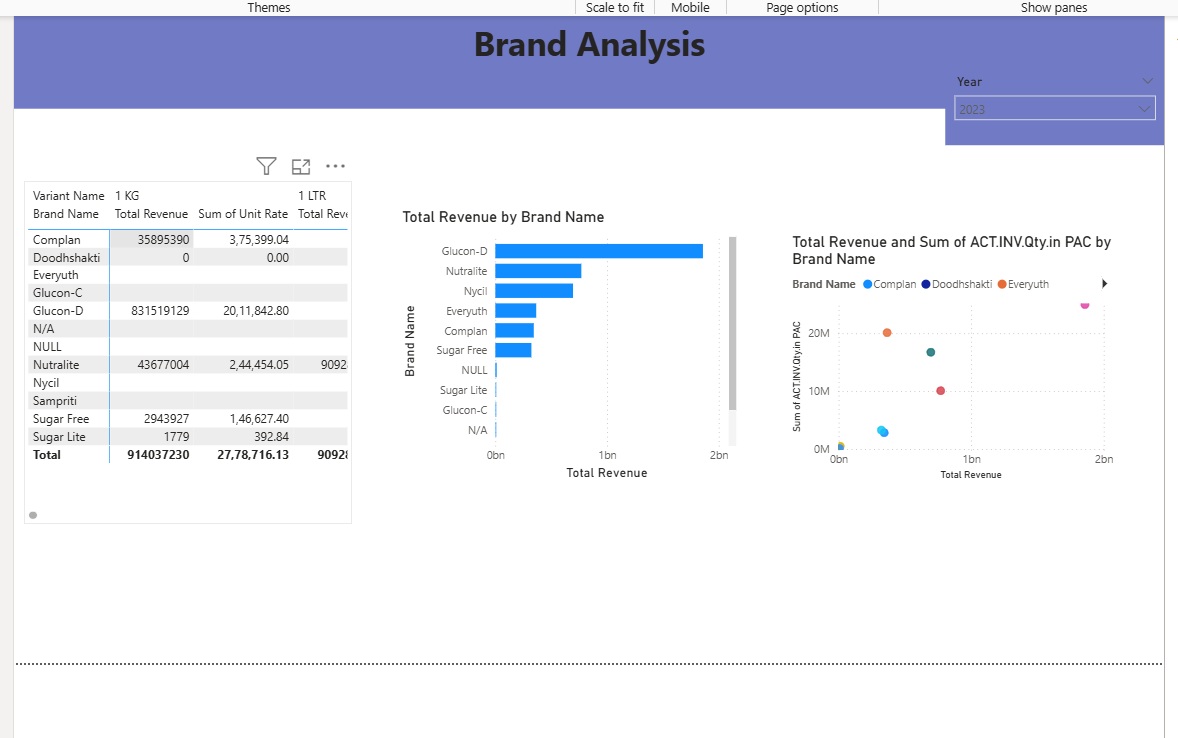

The page's visual inventory and layout, read from the dashboard file:
{"tool":"powerbi","page":{"name":"Brand Analysis","canvas":[1280,720],"ordinal":3},"visuals":[{"type":"barChart","fields":{"Category":["Company Data.Brand Name"],"Y":["Company Data.Total Revenue"]},"box":[426.8,212.7,381.5,308.7],"z":0},{"type":"pivotTable","fields":{"Rows":["Company Data.Brand Name"],"Columns":["Company Data.Variant   Name"],"Values":["Company Data.Total Revenue","Sum(Company Data.Unit Rate)"]},"box":[11,183.9,365,381.5],"z":1000},{"type":"scatterChart","fields":{"X":["Company Data.Total Revenue"],"Series":["Company Data.Brand Name"],"Y":["Sum(Company Data.ACT.INV.Qty.in PAC)"]},"box":[861.8,240.1,371.9,281.3],"z":2000},{"type":"slicer","fields":{"Values":["DateTable.Date.Variation.Date Hierarchy.Year"]},"box":[1056.6,0,223.7,91.9],"z":3000},{"type":"textbox","box":[0,0,1280.3,102.9],"z":3001},{"type":"slicer","fields":{"Values":["DateTable.Date.Variation.Date Hierarchy.Year"]},"box":[1036,60.4,244.3,83.7],"z":3002}]}

Visuals, with their boxes on the page's 1280x720 design canvas (x1, y1, x2, y2). These are canvas units, not pixel positions in the 1178x738 screenshot, which may show the page scaled, cropped or inside an application window:
barChart - Company Data.Brand Name x Company Data.Total Revenue: l=427, t=213, r=808, b=521
pivotTable - Company Data.Brand Name x Company Data.Variant   Name: l=11, t=184, r=376, b=565
scatterChart - Company Data.Total Revenue x Company Data.Brand Name: l=862, t=240, r=1234, b=521
slicer - DateTable.Date.Variation.Date Hierarchy.Year: l=1057, t=0, r=1280, b=92
textbox: l=0, t=0, r=1280, b=103
slicer - DateTable.Date.Variation.Date Hierarchy.Year: l=1036, t=60, r=1280, b=144
